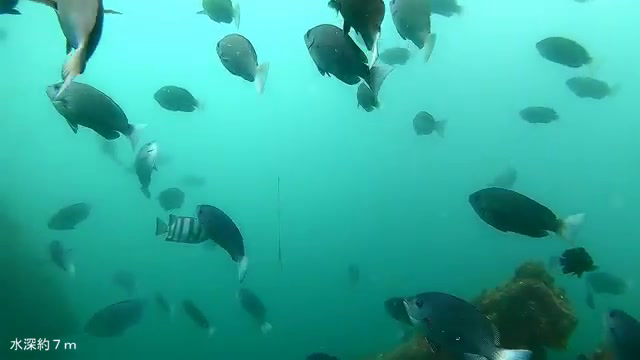gure: (458, 173, 597, 259), (300, 22, 403, 104), (44, 76, 151, 154), (212, 31, 278, 92)
ishidai: (154, 212, 210, 248)
smallfish: (151, 80, 220, 130), (533, 33, 602, 78), (562, 71, 621, 112), (406, 102, 457, 146), (512, 101, 564, 131)
